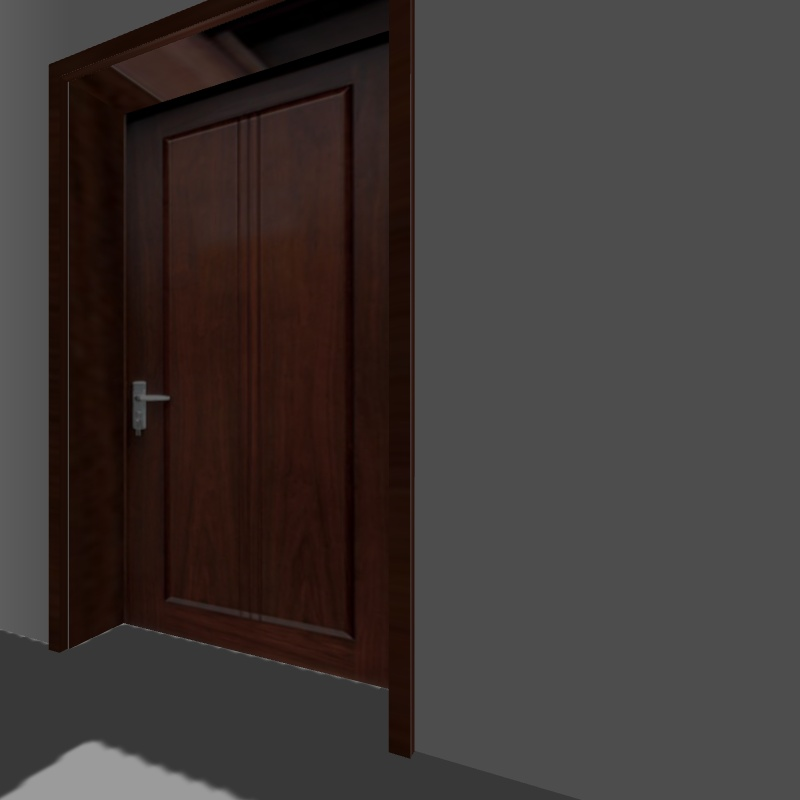handle: (118, 379, 173, 437)
